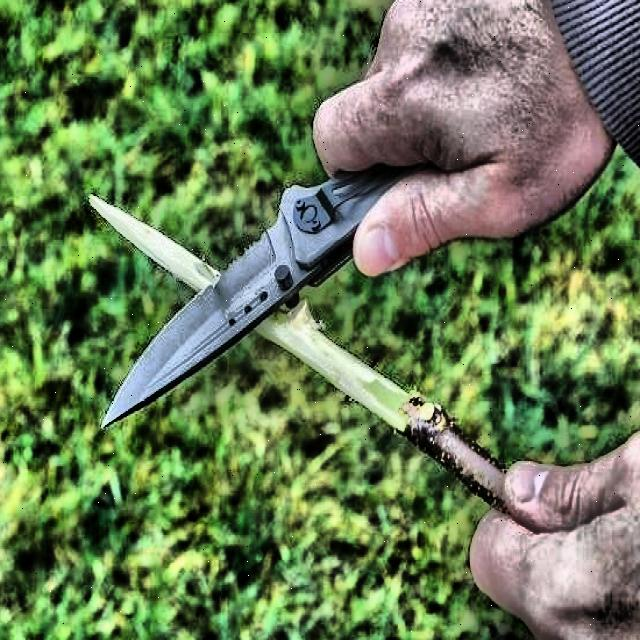knife: (101, 170, 444, 430)
